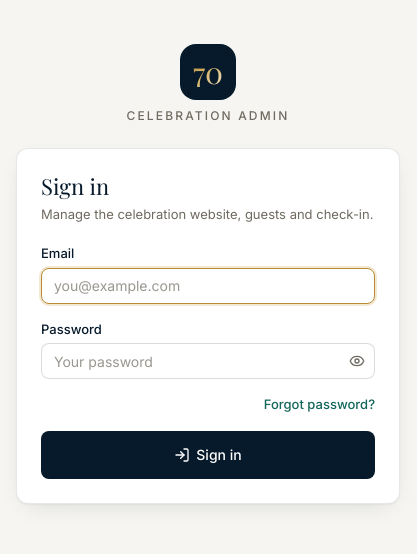
Scenario: LoginPage › shows a clear message for ACCOUNT_LOCKED
In the field labelled "Email": (208, 286) [41, 268, 375, 304], type "admin@demo.local"
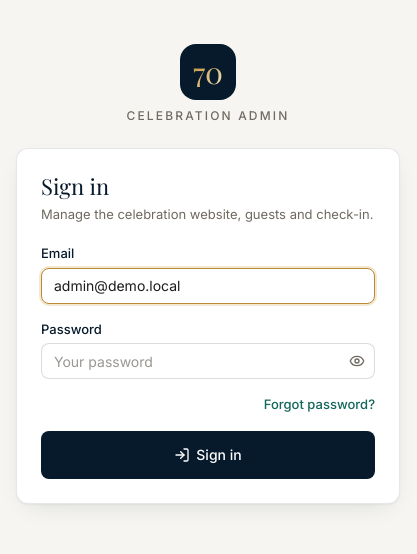
In the password field labelled "Password": (208, 361) [41, 343, 375, 379], type "wrong-password"
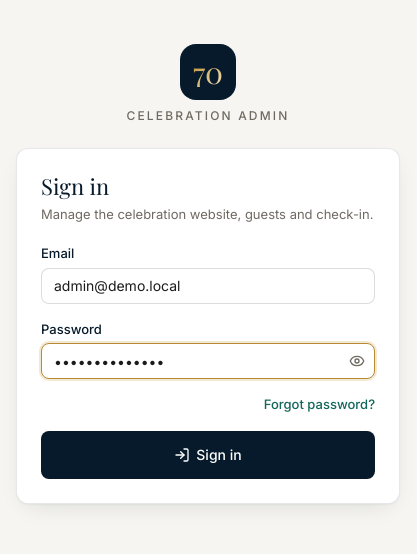
Click the button "Sign in": click(208, 455) [41, 431, 375, 479]
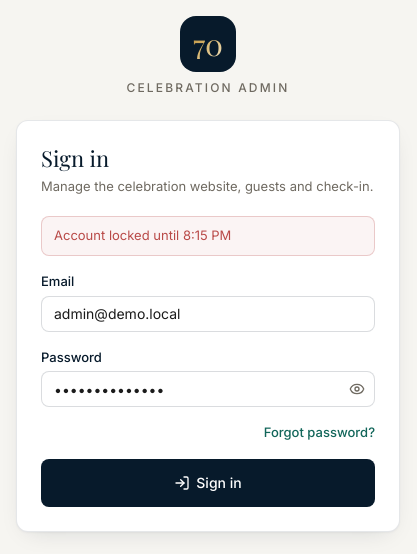
Expected: the message reads "Account locked until 8:15 PM", [54, 227, 231, 243]
